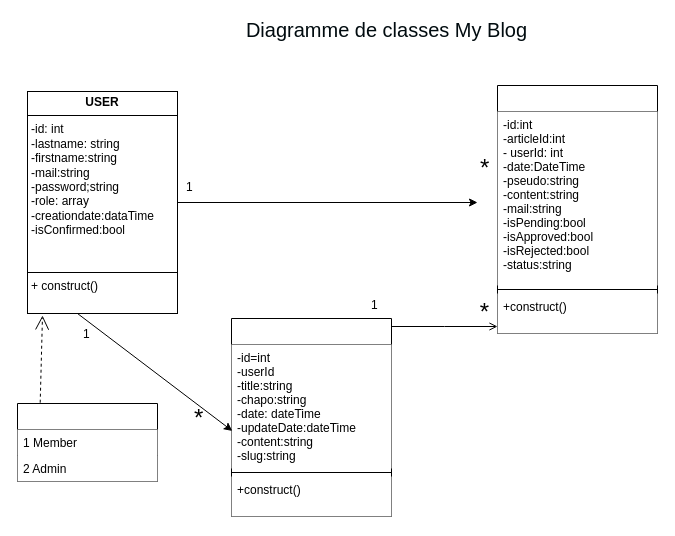
Image size: 675x536. Some labels were removed from this diagram. Here are the shapes that lost their labels. From the top down, the box of each, then its label:
(496, 84, 658, 334): COMMENT
(230, 318, 392, 516): ARTICLE
(16, 402, 158, 482): role
